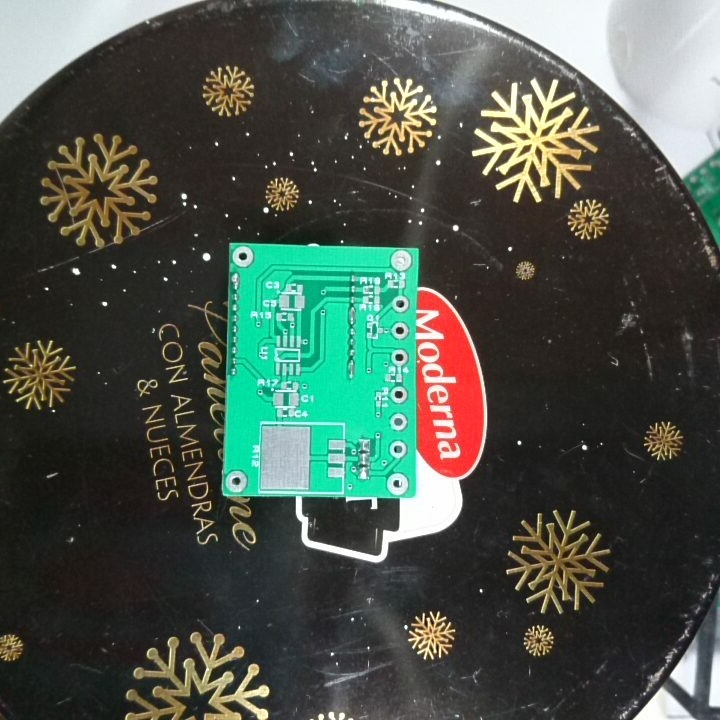F: (224, 468, 249, 495), (231, 244, 257, 268), (384, 472, 410, 494), (388, 249, 412, 272), (386, 411, 409, 434), (387, 440, 409, 463), (389, 320, 411, 342), (389, 293, 410, 315), (388, 383, 408, 406), (389, 346, 409, 367)
P: (345, 304, 359, 327), (230, 270, 242, 292), (345, 358, 356, 381)
